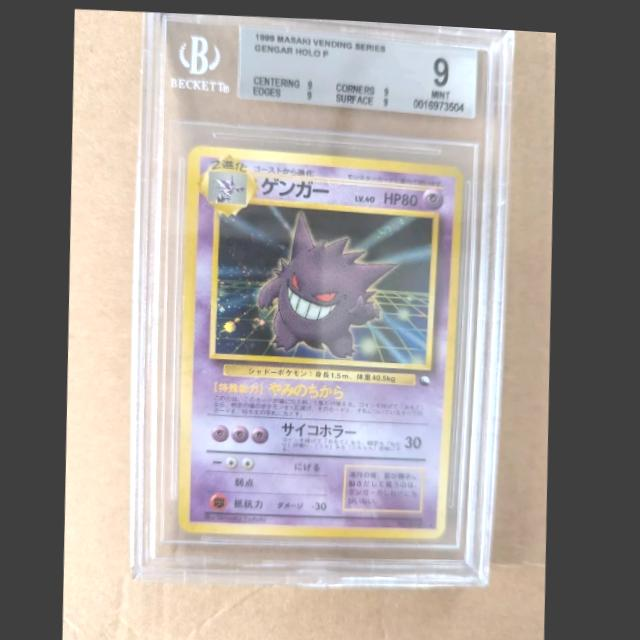bgs_label: (238, 21, 478, 113)
bgs_slab: (132, 10, 515, 582)
card: (179, 141, 466, 533)
